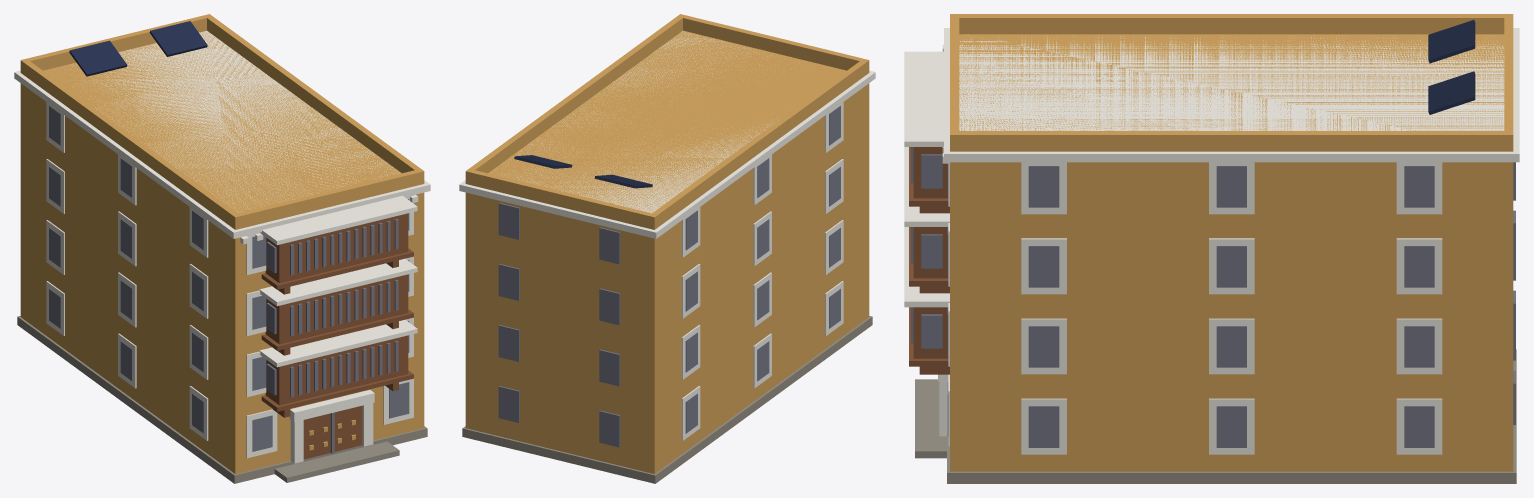
Rendered from house-1x2-4f-quincha-a-solar.glb.
The picture shows the model from 3 angles, left to right: view 1: azimuth 30°, elevation 25°; view 2: azimuth 150°, elevation 25°; view 3: azimuth 270°, elevation 25°; orthographic projection. The views are drawn at different scales.
Parts seen in each view (by area): view 1: house-1x2-4f-quincha-a-solar; view 2: house-1x2-4f-quincha-a-solar; view 3: house-1x2-4f-quincha-a-solar.
Boxes of the visible parts, left/top/right/bottom form: house-1x2-4f-quincha-a-solar: left=14, top=14, right=430, bottom=483; house-1x2-4f-quincha-a-solar: left=459, top=14, right=875, bottom=483; house-1x2-4f-quincha-a-solar: left=904, top=14, right=1519, bottom=483.
Bounding box in the file's own units: 0.98 × 1.32 × 2.02.
Materials: 1 (1 with a texture image).
